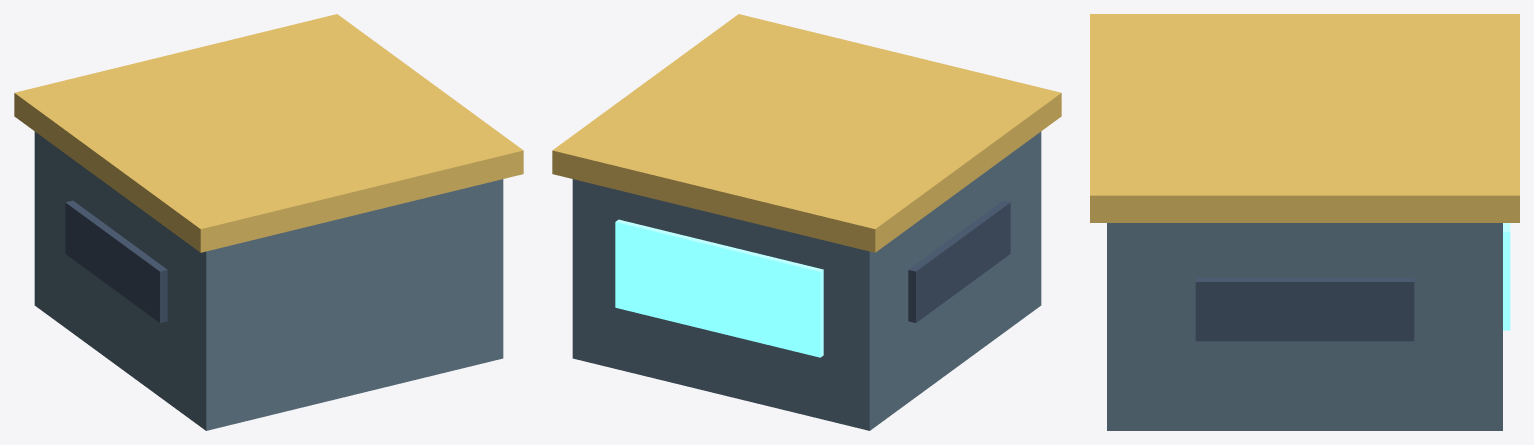
File: MachineShell.fbx
3 renders of one model, left to right at view 1: azimuth 30°, elevation 25°; view 2: azimuth 150°, elevation 25°; view 3: azimuth 270°, elevation 25°, orthographic. The views are drawn at different scales.
Parts seen in each view (by area): view 1: Shell, Top, Vent; view 2: Top, Shell, Window, Vent; view 3: Top, Shell, Vent.001, Window.
Boxes of the visible parts, x1,y1,x2,y2 form: Shell: (34,131,503,430); Top: (14,14,523,252); Vent: (65,200,167,322); Top: (552,14,1061,252); Shell: (572,131,1041,430); Window: (615,219,823,357); Vent: (908,200,1010,322); Top: (1090,14,1519,222); Shell: (1107,223,1502,430); Vent.001: (1195,277,1414,341); Window: (1503,223,1510,330).
Bounding box in the file's own units: 630 × 392 × 630.
